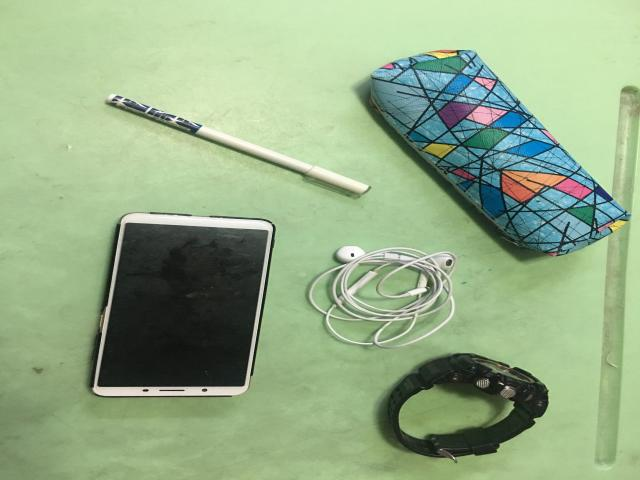Mobile phone: (88, 214, 277, 400)
Pen: (105, 96, 370, 198)
Watch: (374, 354, 550, 460)
wire: (307, 248, 456, 350)
